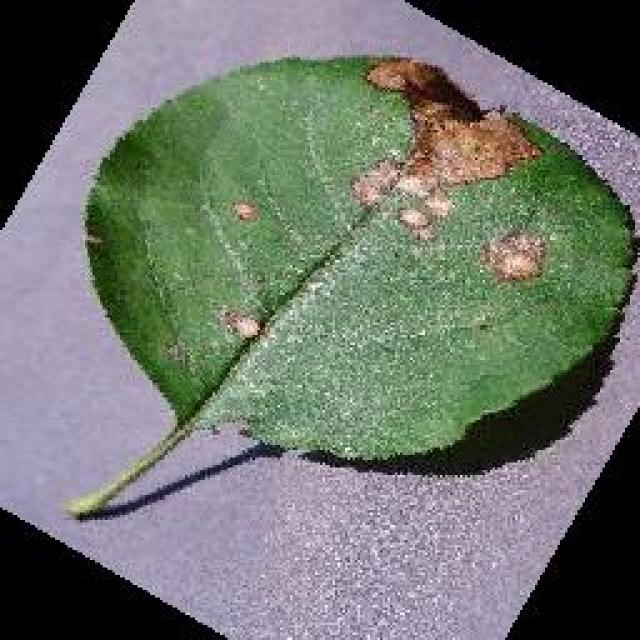apple scab disease: (65, 50, 637, 518)
